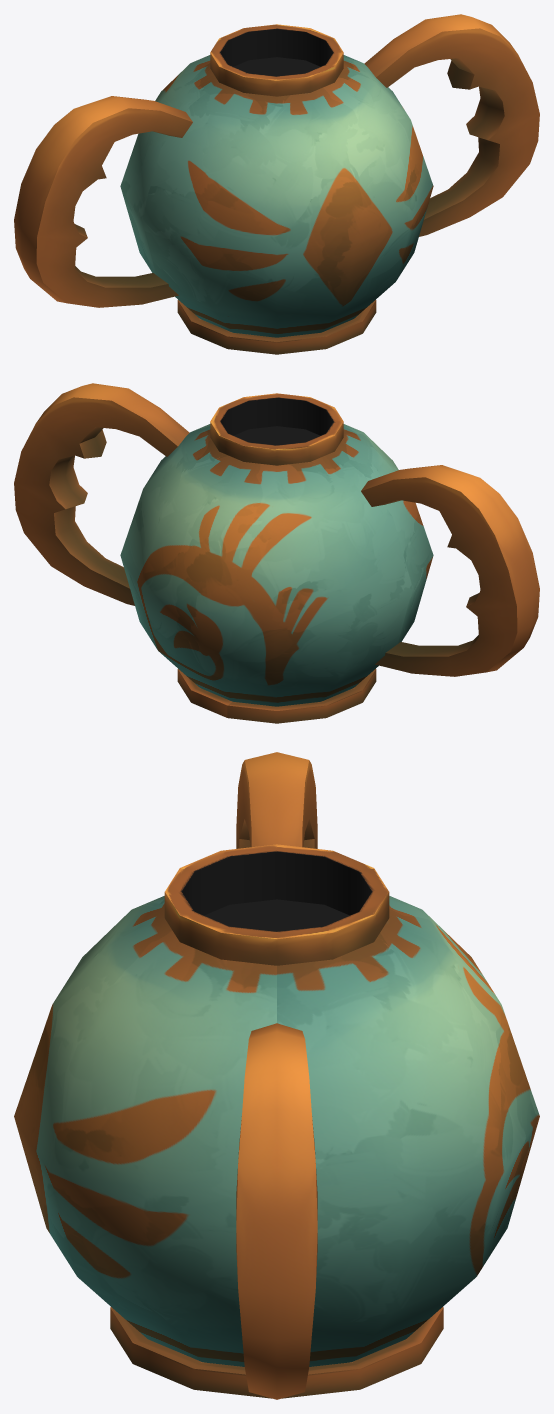
File: AshPot.FBX
The picture shows the model from 3 angles, top to bottom: view 1: azimuth 30°, elevation 25°; view 2: azimuth 150°, elevation 25°; view 3: azimuth 270°, elevation 25°; orthographic projection. The views are drawn at different scales.
Visible parts, largest first — view 1: PotOfAshyMagic; view 2: PotOfAshyMagic; view 3: PotOfAshyMagic.
Part boxes in pixels (x1=…): PotOfAshyMagic: x1=14, y1=14, x2=539, y2=354; PotOfAshyMagic: x1=14, y1=383, x2=539, y2=723; PotOfAshyMagic: x1=14, y1=752, x2=539, y2=1399.
Bounding box in the file's own units: 169 × 82.43 × 89.92.
